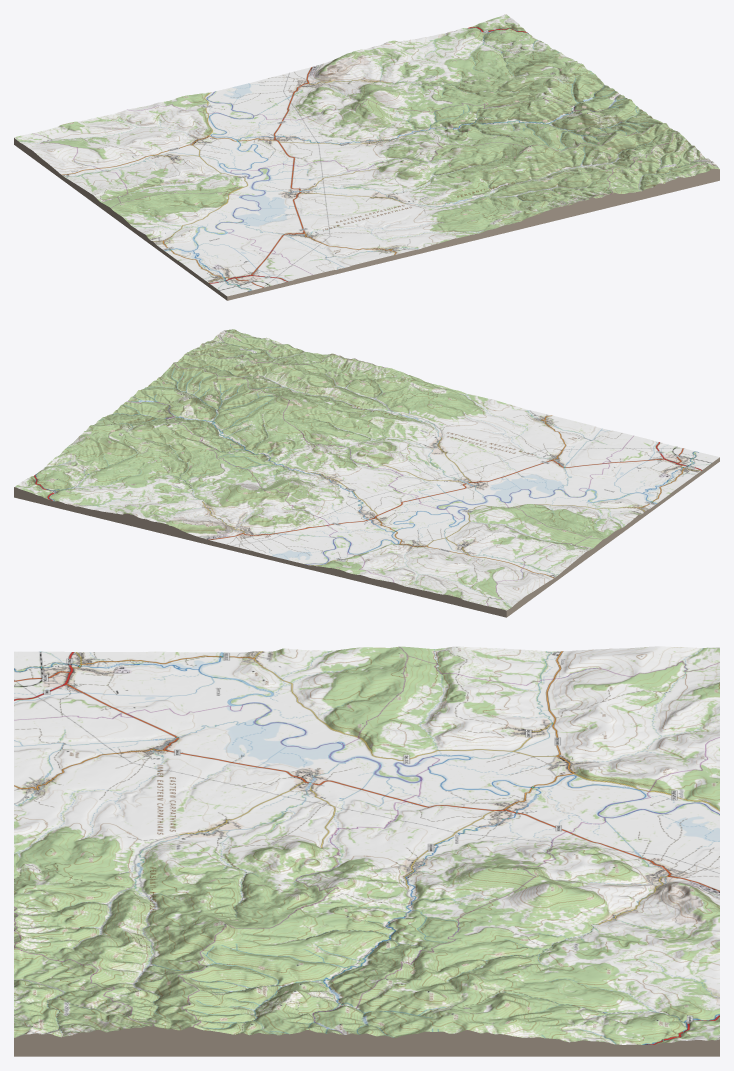
The picture shows the model from 3 angles, top to bottom: view 1: azimuth 30°, elevation 25°; view 2: azimuth 150°, elevation 25°; view 3: azimuth 270°, elevation 25°; orthographic projection. The views are drawn at different scales.
Parts seen in each view (by area): view 1: BV50-C3 Șercaia; view 2: BV50-C3 Șercaia; view 3: BV50-C3 Șercaia.
Boxes of the visible parts, <box> form: BV50-C3 Șercaia: <box>14,14,719,300</box>; BV50-C3 Șercaia: <box>14,329,719,617</box>; BV50-C3 Șercaia: <box>14,646,719,1056</box>.
Size of the model in its own units: 20000 by 726 by 15000.
4 materials, 1 textured.
